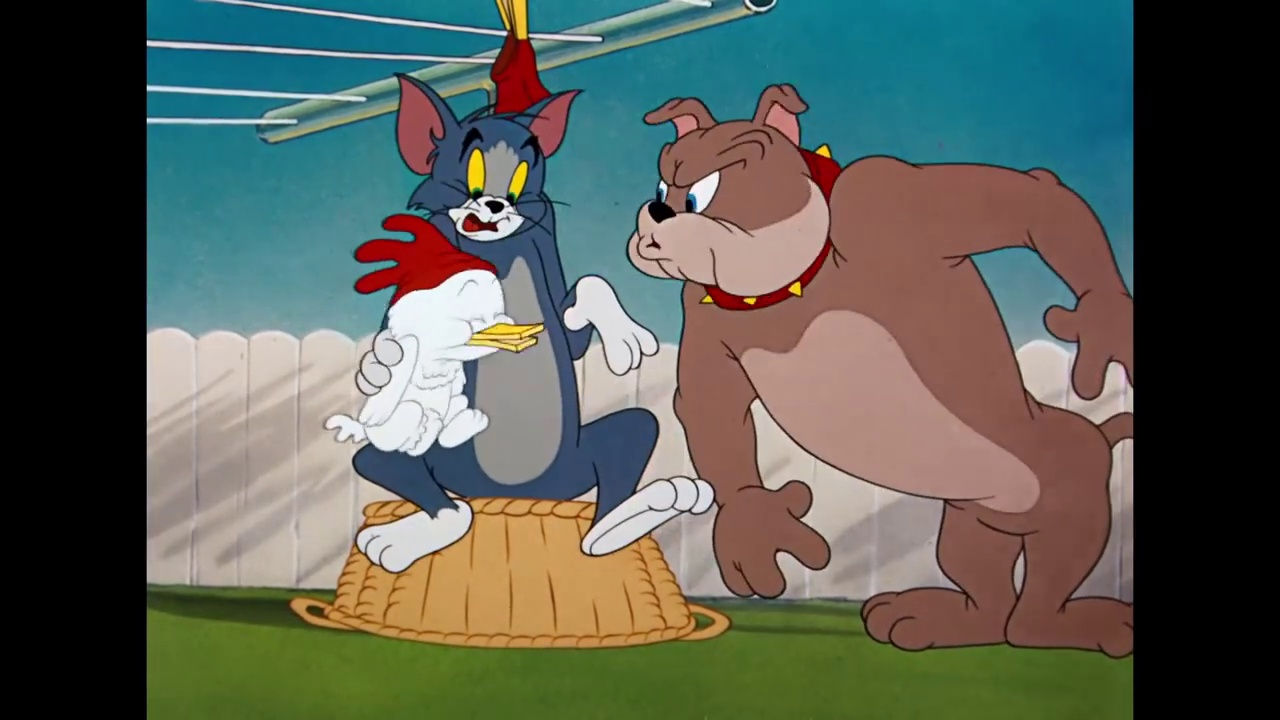spike: (622, 79, 856, 317)
tom: (388, 65, 589, 246)
